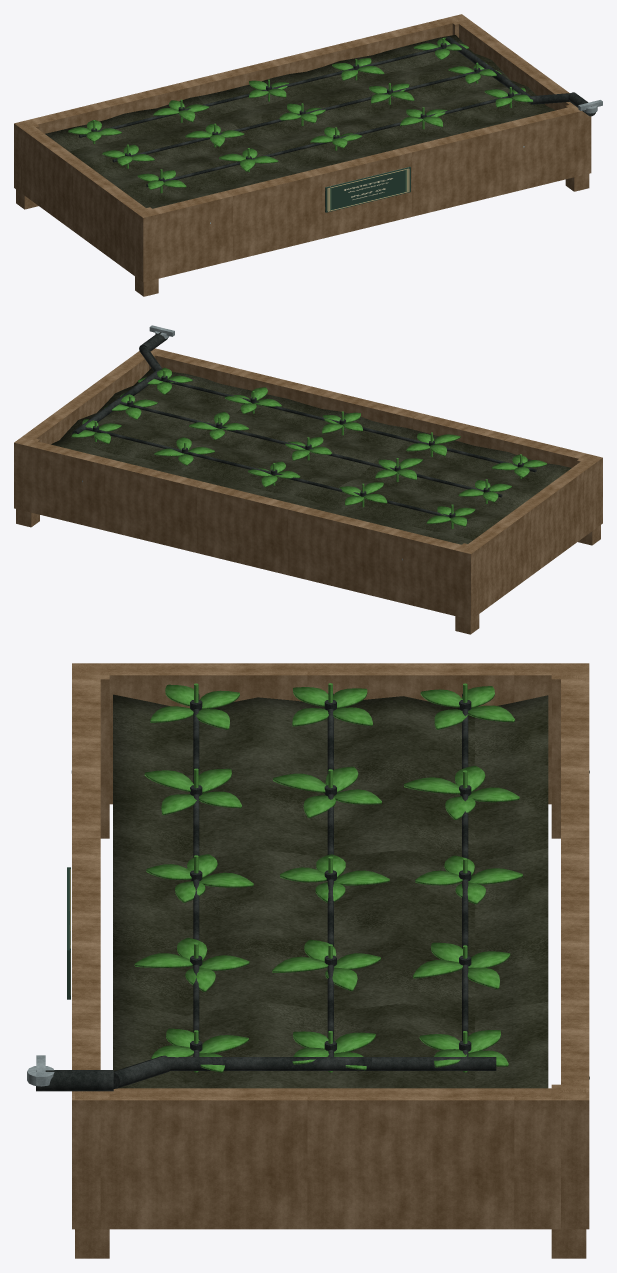
File: PROJECT_Z_VegetableGarden_Seedling_Ready.glb
3 views of the same model, one above another, from view 1: azimuth 30°, elevation 25°; view 2: azimuth 150°, elevation 25°; view 3: azimuth 270°, elevation 25° (orthographic). The views are drawn at different scales.
Parts seen in each view (by area): view 1: SM_SEEDLINGS_SOIL_WET_NODE, SM_SEEDLINGS_FRAME_FRONT_NODE, SM_SEEDLINGS_FRAME_LEFT_NODE, SM_SEEDLINGS_FRAME_REAR_NODE, SM_SEEDLINGS_FRAME_RIGHT_NODE, SM_SEEDLINGS_ROOKFIELD_ALLOTMENT_TAG_NODE, SM_SEEDLINGS_DRIP_LINE_ROW_3_NODE, SM_SEEDLINGS_DRIP_LINE_ROW_2_NODE, SM_SEEDLINGS_DRIP_LINE_ROW_1_NODE, SM_SEEDLINGS_R1_C4_PLANT_SEEDLING_NODE, SM_SEEDLINGS_IRRIGATION_MANIFOLD_NODE, SM_SEEDLINGS_R1_C2_PLANT_SEEDLING_NODE (+14 smaller); view 2: SM_SEEDLINGS_FRAME_REAR_NODE, SM_SEEDLINGS_SOIL_WET_NODE, SM_SEEDLINGS_FRAME_LEFT_NODE, SM_SEEDLINGS_FRAME_FRONT_NODE, SM_SEEDLINGS_FRAME_RIGHT_NODE, SM_SEEDLINGS_DRIP_LINE_ROW_3_NODE, SM_SEEDLINGS_DRIP_LINE_ROW_2_NODE, SM_SEEDLINGS_DRIP_LINE_ROW_1_NODE, SM_SEEDLINGS_R2_C2_PLANT_SEEDLING_NODE, SM_SEEDLINGS_R3_C2_PLANT_SEEDLING_NODE, SM_SEEDLINGS_R1_C2_PLANT_SEEDLING_NODE, SM_SEEDLINGS_R1_C4_PLANT_SEEDLING_NODE (+12 smaller); view 3: SM_SEEDLINGS_SOIL_WET_NODE, SM_SEEDLINGS_FRAME_RIGHT_NODE, SM_SEEDLINGS_FRAME_REAR_NODE, SM_SEEDLINGS_FRAME_FRONT_NODE, SM_SEEDLINGS_FRAME_LEFT_NODE, SM_SEEDLINGS_IRRIGATION_MANIFOLD_NODE, SM_SEEDLINGS_R1_C2_PLANT_SEEDLING_NODE, SM_SEEDLINGS_R2_C2_PLANT_SEEDLING_NODE, SM_SEEDLINGS_R3_C2_PLANT_SEEDLING_NODE, SM_SEEDLINGS_R3_C4_PLANT_SEEDLING_NODE, SM_SEEDLINGS_R1_C4_PLANT_SEEDLING_NODE, SM_SEEDLINGS_R2_C1_PLANT_SEEDLING_NODE (+18 smaller).
Boxes of the visible parts, x1,y1,x2,y2 form: SM_SEEDLINGS_SOIL_WET_NODE: (45,35,555,208); SM_SEEDLINGS_FRAME_FRONT_NODE: (136,106,591,282); SM_SEEDLINGS_FRAME_LEFT_NODE: (21,125,147,276); SM_SEEDLINGS_FRAME_REAR_NODE: (14,14,468,192); SM_SEEDLINGS_FRAME_RIGHT_NODE: (457,19,574,110); SM_SEEDLINGS_ROOKFIELD_ALLOTMENT_TAG_NODE: (325,166,410,212); SM_SEEDLINGS_DRIP_LINE_ROW_3_NODE: (79,44,450,137); SM_SEEDLINGS_DRIP_LINE_ROW_2_NODE: (112,68,487,162); SM_SEEDLINGS_DRIP_LINE_ROW_1_NODE: (146,93,521,186); SM_SEEDLINGS_R1_C4_PLANT_SEEDLING_NODE: (400,107,447,129); SM_SEEDLINGS_IRRIGATION_MANIFOLD_NODE: (445,36,530,103); SM_SEEDLINGS_R1_C2_PLANT_SEEDLING_NODE: (219,148,278,171); SM_SEEDLINGS_FRAME_REAR_NODE: (14,437,478,619); SM_SEEDLINGS_SOIL_WET_NODE: (51,368,571,544); SM_SEEDLINGS_FRAME_LEFT_NODE: (466,461,595,614); SM_SEEDLINGS_FRAME_FRONT_NODE: (139,348,602,528); SM_SEEDLINGS_FRAME_RIGHT_NODE: (21,351,148,444); SM_SEEDLINGS_DRIP_LINE_ROW_3_NODE: (85,427,467,521); SM_SEEDLINGS_DRIP_LINE_ROW_2_NODE: (119,401,502,497); SM_SEEDLINGS_DRIP_LINE_ROW_1_NODE: (154,376,536,472); SM_SEEDLINGS_R2_C2_PLANT_SEEDLING_NODE: (375,458,422,481); SM_SEEDLINGS_R3_C2_PLANT_SEEDLING_NODE: (339,482,387,507); SM_SEEDLINGS_R1_C2_PLANT_SEEDLING_NODE: (406,432,460,456); SM_SEEDLINGS_R1_C4_PLANT_SEEDLING_NODE: (225,387,281,413); SM_SEEDLINGS_SOIL_WET_NODE: (113,694,548,1088); SM_SEEDLINGS_FRAME_RIGHT_NODE: (100,1088,560,1229); SM_SEEDLINGS_FRAME_REAR_NODE: (561,663,589,1229); SM_SEEDLINGS_FRAME_FRONT_NODE: (72,663,100,1229); SM_SEEDLINGS_FRAME_LEFT_NODE: (100,663,560,804); SM_SEEDLINGS_IRRIGATION_MANIFOLD_NODE: (168,1057,496,1070); SM_SEEDLINGS_R1_C2_PLANT_SEEDLING_NODE: (144,768,241,815); SM_SEEDLINGS_R2_C2_PLANT_SEEDLING_NODE: (273,766,381,818); SM_SEEDLINGS_R3_C2_PLANT_SEEDLING_NODE: (404,765,519,819); SM_SEEDLINGS_R3_C4_PLANT_SEEDLING_NODE: (413,942,510,989); SM_SEEDLINGS_R1_C4_PLANT_SEEDLING_NODE: (134,937,249,991); SM_SEEDLINGS_R2_C1_PLANT_SEEDLING_NODE: (292,683,372,726).
Size of the model in its own units: 2.01 by 0.3984 by 1.09.
Materials: 6 (6 with a texture image).
